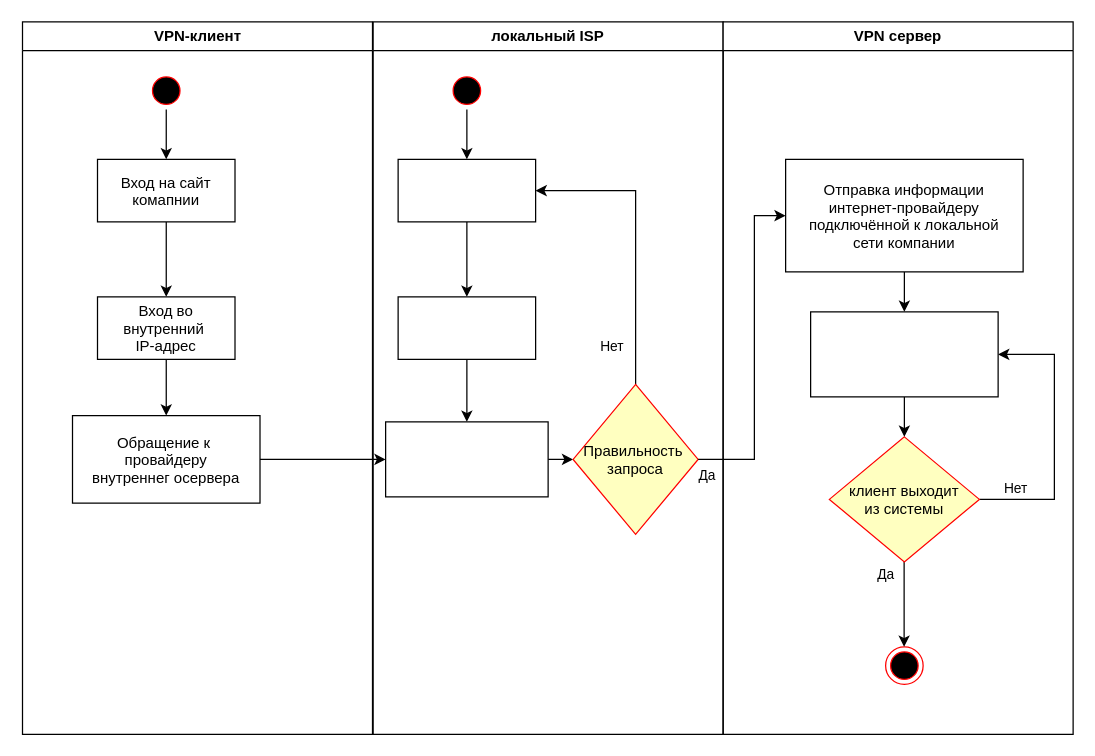
Some shapes in this 1095 by 756 pixel diagram are drawn without their labels. The box of each missing label's shape, as (x1, y1, x2, y2) in pixels:
Ожидание запроса на локальное подключение: (397, 296, 536, 359)
Поддерживает подключению к интернету: (397, 158, 536, 222)
Поддержка стабильного и безопасного соединения с пользователем: (809, 311, 998, 397)
Получение запроса на подключение к VPN от пользователя: (384, 421, 548, 497)
